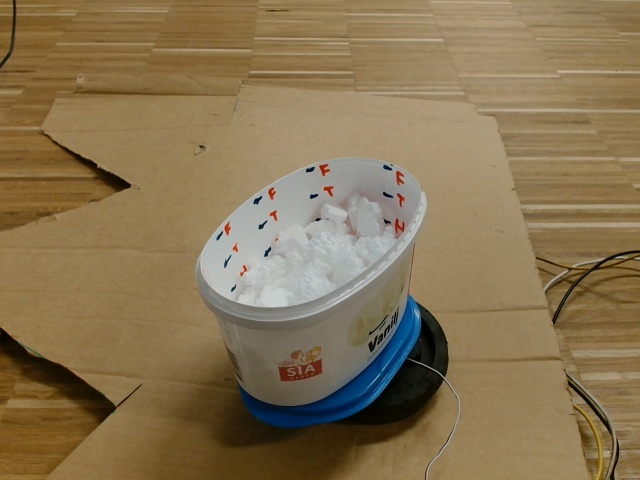Big_half: (197, 152, 427, 329)
